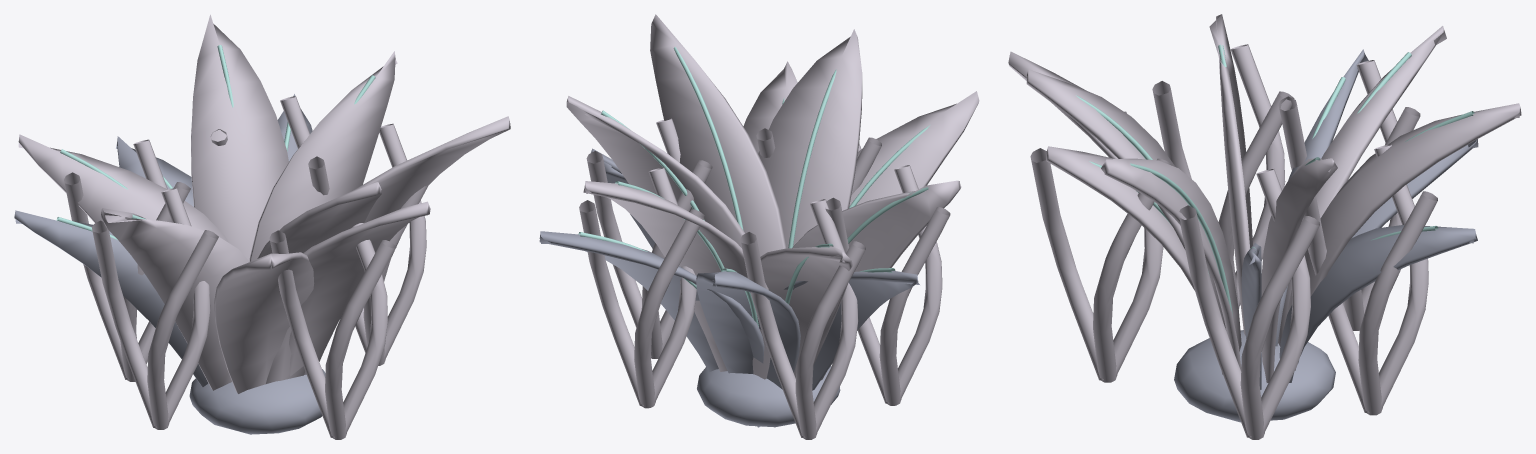
Rendered from bio_mist_leaf_24_far.glb.
3 renders of one model, left to right at view 1: azimuth 30°, elevation 25°; view 2: azimuth 150°, elevation 25°; view 3: azimuth 270°, elevation 25°, orthographic. The views are drawn at different scales.
Parts seen in each view (by area): view 1: Cupped condensate leaf.011, Cupped condensate leaf.008, Spiral filament.012, Spiral filament.006, Cupped condensate leaf.007, Cupped condensate leaf.004, Cupped condensate leaf.010, Cupped condensate leaf.001, Root rosette, Cupped condensate leaf.009, Spiral filament, Cupped condensate leaf.002 (+4 smaller); view 2: Cupped condensate leaf.002, Cupped condensate leaf.005, Spiral filament.003, Spiral filament.009, Spiral filament.012, Cupped condensate leaf.011, Cupped condensate leaf.008, Cupped condensate leaf.004, Cupped condensate leaf.006, Cupped condensate leaf.007, Cupped condensate leaf.003, Cupped condensate leaf.001 (+10 smaller); view 3: Spiral filament, Spiral filament.009, Spiral filament.006, Cupped condensate leaf.011, Spiral filament.012, Root rosette, Cupped condensate leaf.003, Cupped condensate leaf.005, Cupped condensate leaf.001, Cupped condensate leaf.002, Cupped condensate leaf.004, Cupped condensate leaf.008 (+7 smaller).
Boxes of the visible parts, x1,y1,x2,y2 form: Cupped condensate leaf.011: (191, 14, 288, 261); Cupped condensate leaf.008: (249, 51, 397, 261); Spiral filament.012: (92, 188, 218, 429); Spiral filament.006: (269, 223, 396, 439); Cupped condensate leaf.007: (214, 252, 314, 393); Cupped condensate leaf.004: (100, 208, 249, 390); Cupped condensate leaf.010: (289, 201, 430, 376); Cupped condensate leaf.001: (18, 134, 228, 242); Root rosette: (189, 369, 325, 434); Cupped condensate leaf.009: (14, 210, 208, 386); Spiral filament: (308, 123, 428, 365); Cupped condensate leaf.002: (257, 182, 381, 383); Cupped condensate leaf.002: (758, 29, 862, 248); Cupped condensate leaf.005: (650, 14, 786, 256); Spiral filament.003: (740, 199, 865, 439); Spiral filament.009: (579, 167, 704, 408); Spiral filament.012: (825, 165, 950, 405); Cupped condensate leaf.011: (583, 181, 770, 379); Cupped condensate leaf.008: (566, 96, 744, 248); Cupped condensate leaf.004: (792, 180, 961, 380); Cupped condensate leaf.006: (696, 271, 800, 427); Cupped condensate leaf.007: (849, 91, 979, 206); Cupped condensate leaf.003: (539, 231, 764, 371); Cupped condensate leaf.001: (760, 246, 852, 378); Spiral filament: (1179, 169, 1319, 439); Spiral filament.009: (1302, 144, 1437, 415); Spiral filament.006: (1030, 111, 1171, 382); Cupped condensate leaf.011: (1287, 103, 1521, 370); Spiral filament.012: (1152, 44, 1294, 308); Root rosette: (1174, 330, 1335, 422); Cupped condensate leaf.003: (1279, 224, 1477, 382); Cupped condensate leaf.005: (1101, 158, 1241, 370); Cupped condensate leaf.001: (1278, 26, 1446, 346); Cupped condensate leaf.002: (1026, 69, 1185, 249); Cupped condensate leaf.004: (1209, 14, 1252, 335); Cupped condensate leaf.008: (1261, 158, 1337, 382).
Bounding box in the file's own units: 1.83 × 1.42 × 1.9.
